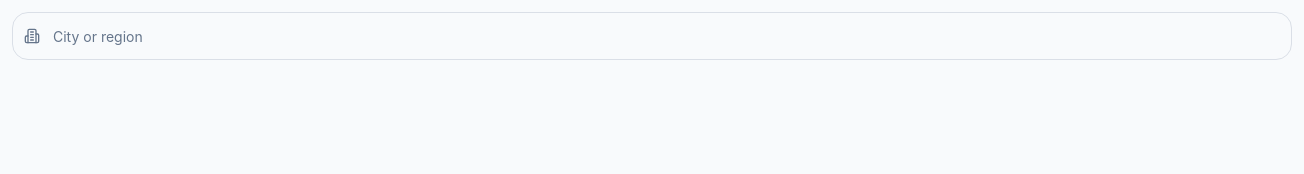
Test: HotelDestinationCombobox › ArrowDown wraps to first item (no manual row when suggestions exist)
Type "lon" into the dropdown.
click(652, 36); type("lon")  # box 12,12 -> 1292,60
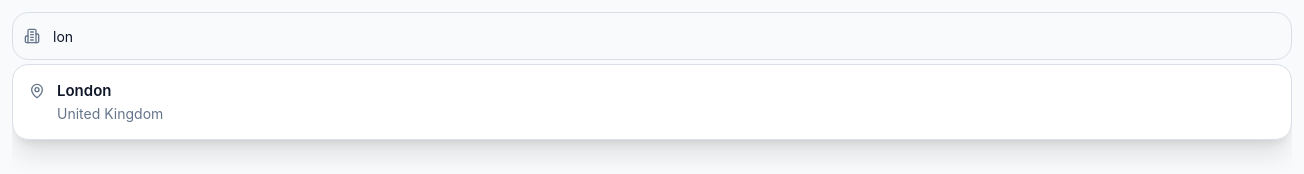
Result: the list is shown at 13,65 -> 1291,139
Press ArrowDown in the dropdown, box 12,12 -> 1292,60
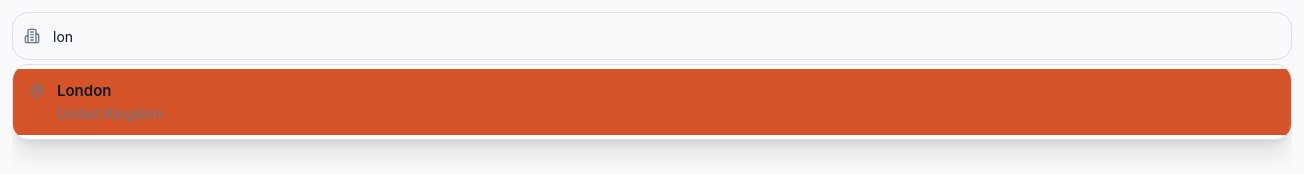
Press ArrowDown in the dropdown, box 12,12 -> 1292,60
Result: the option is selected at 13,69 -> 1291,135
